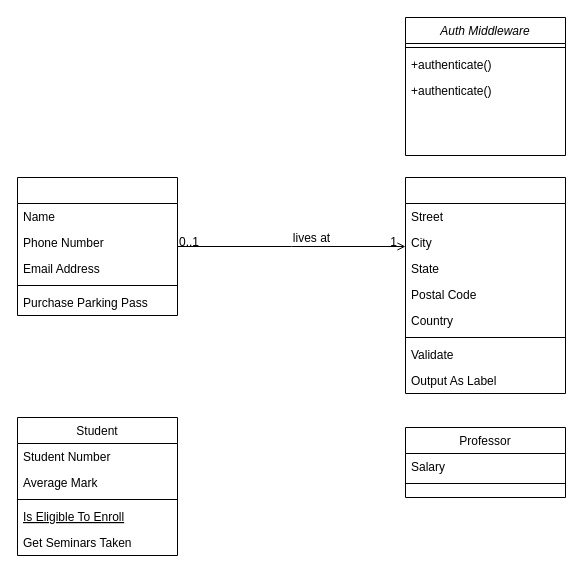
Some shapes in this 583 by 576 pixel diagram are drawn without their labels. Here are the shapes that lost their labels. From the top down, the box of each, then its label:
(16, 176, 178, 316): Person
(404, 176, 566, 394): Address
